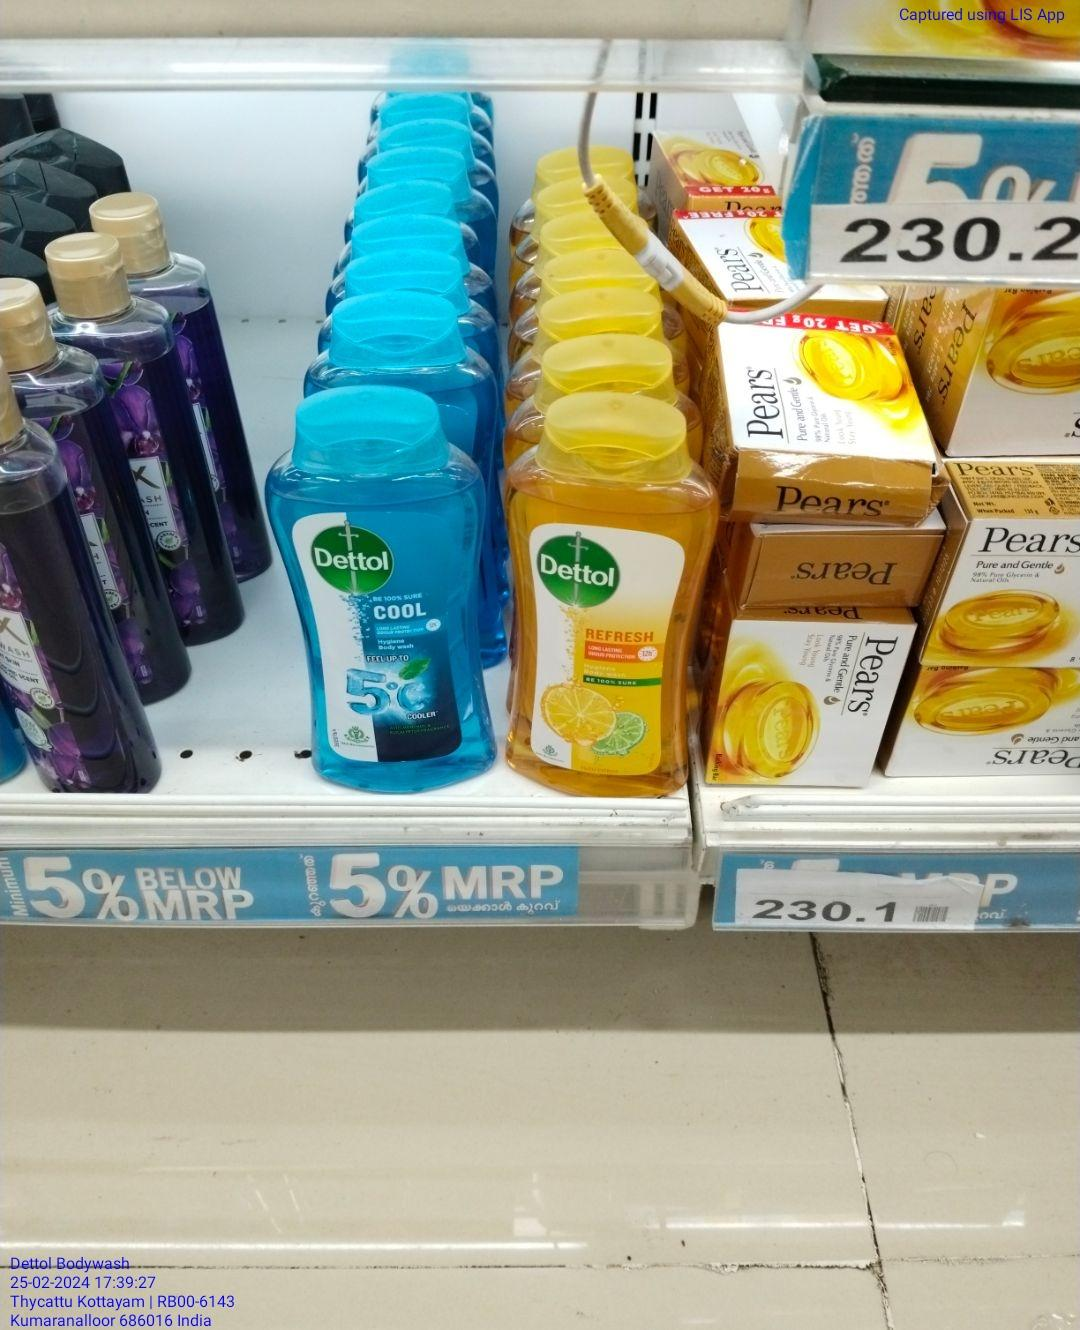Dettol_Bodywash_Cool: (262, 410, 499, 793)
Dettol_Bodywash_Refresh: (520, 417, 717, 796)
